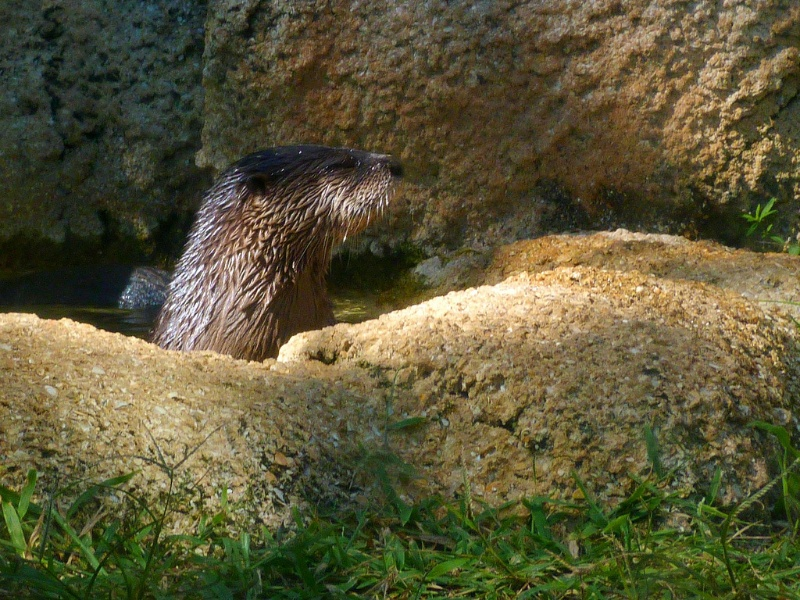minkish: (140, 143, 404, 371)
